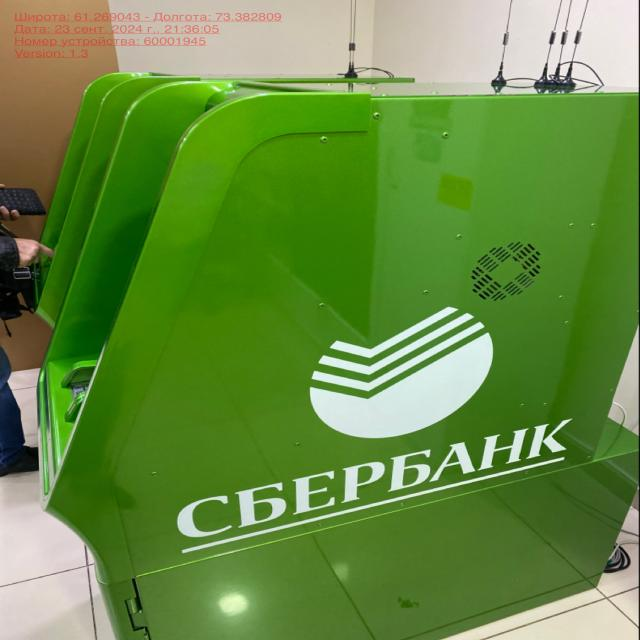bank: (40, 75, 640, 640), (31, 67, 407, 347)
